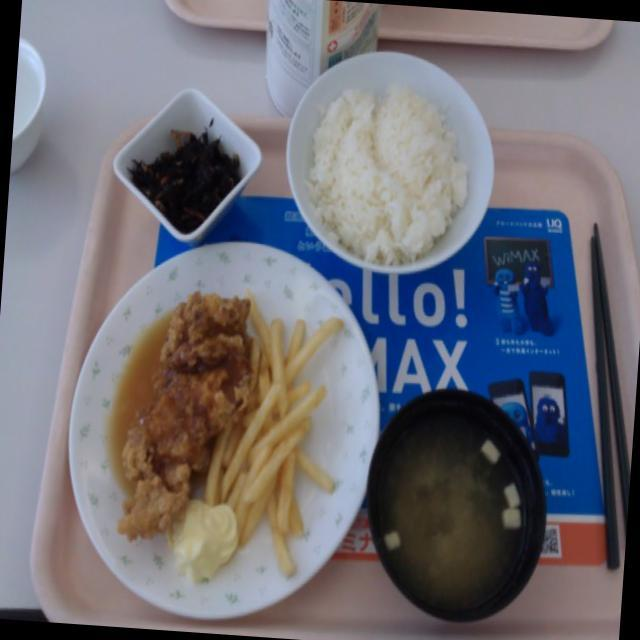Rice: (291, 61, 486, 276)
